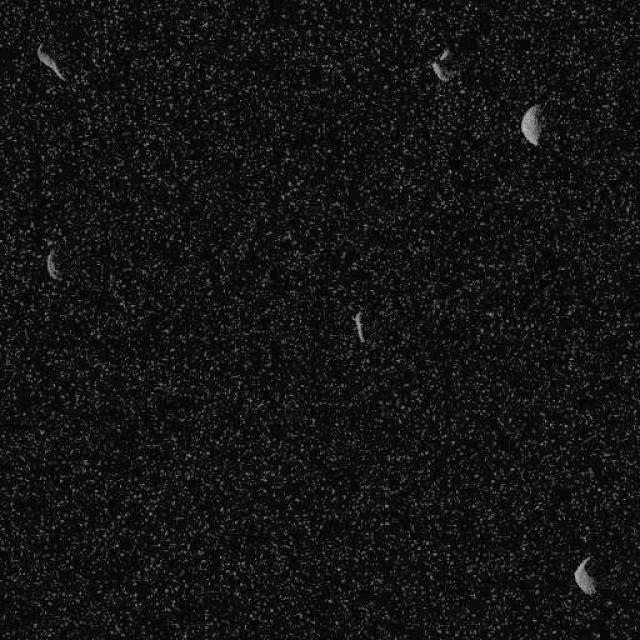D2: (35, 42, 66, 82), (518, 102, 544, 146), (572, 555, 596, 595), (45, 246, 63, 280), (352, 310, 366, 342), (429, 60, 449, 82)
